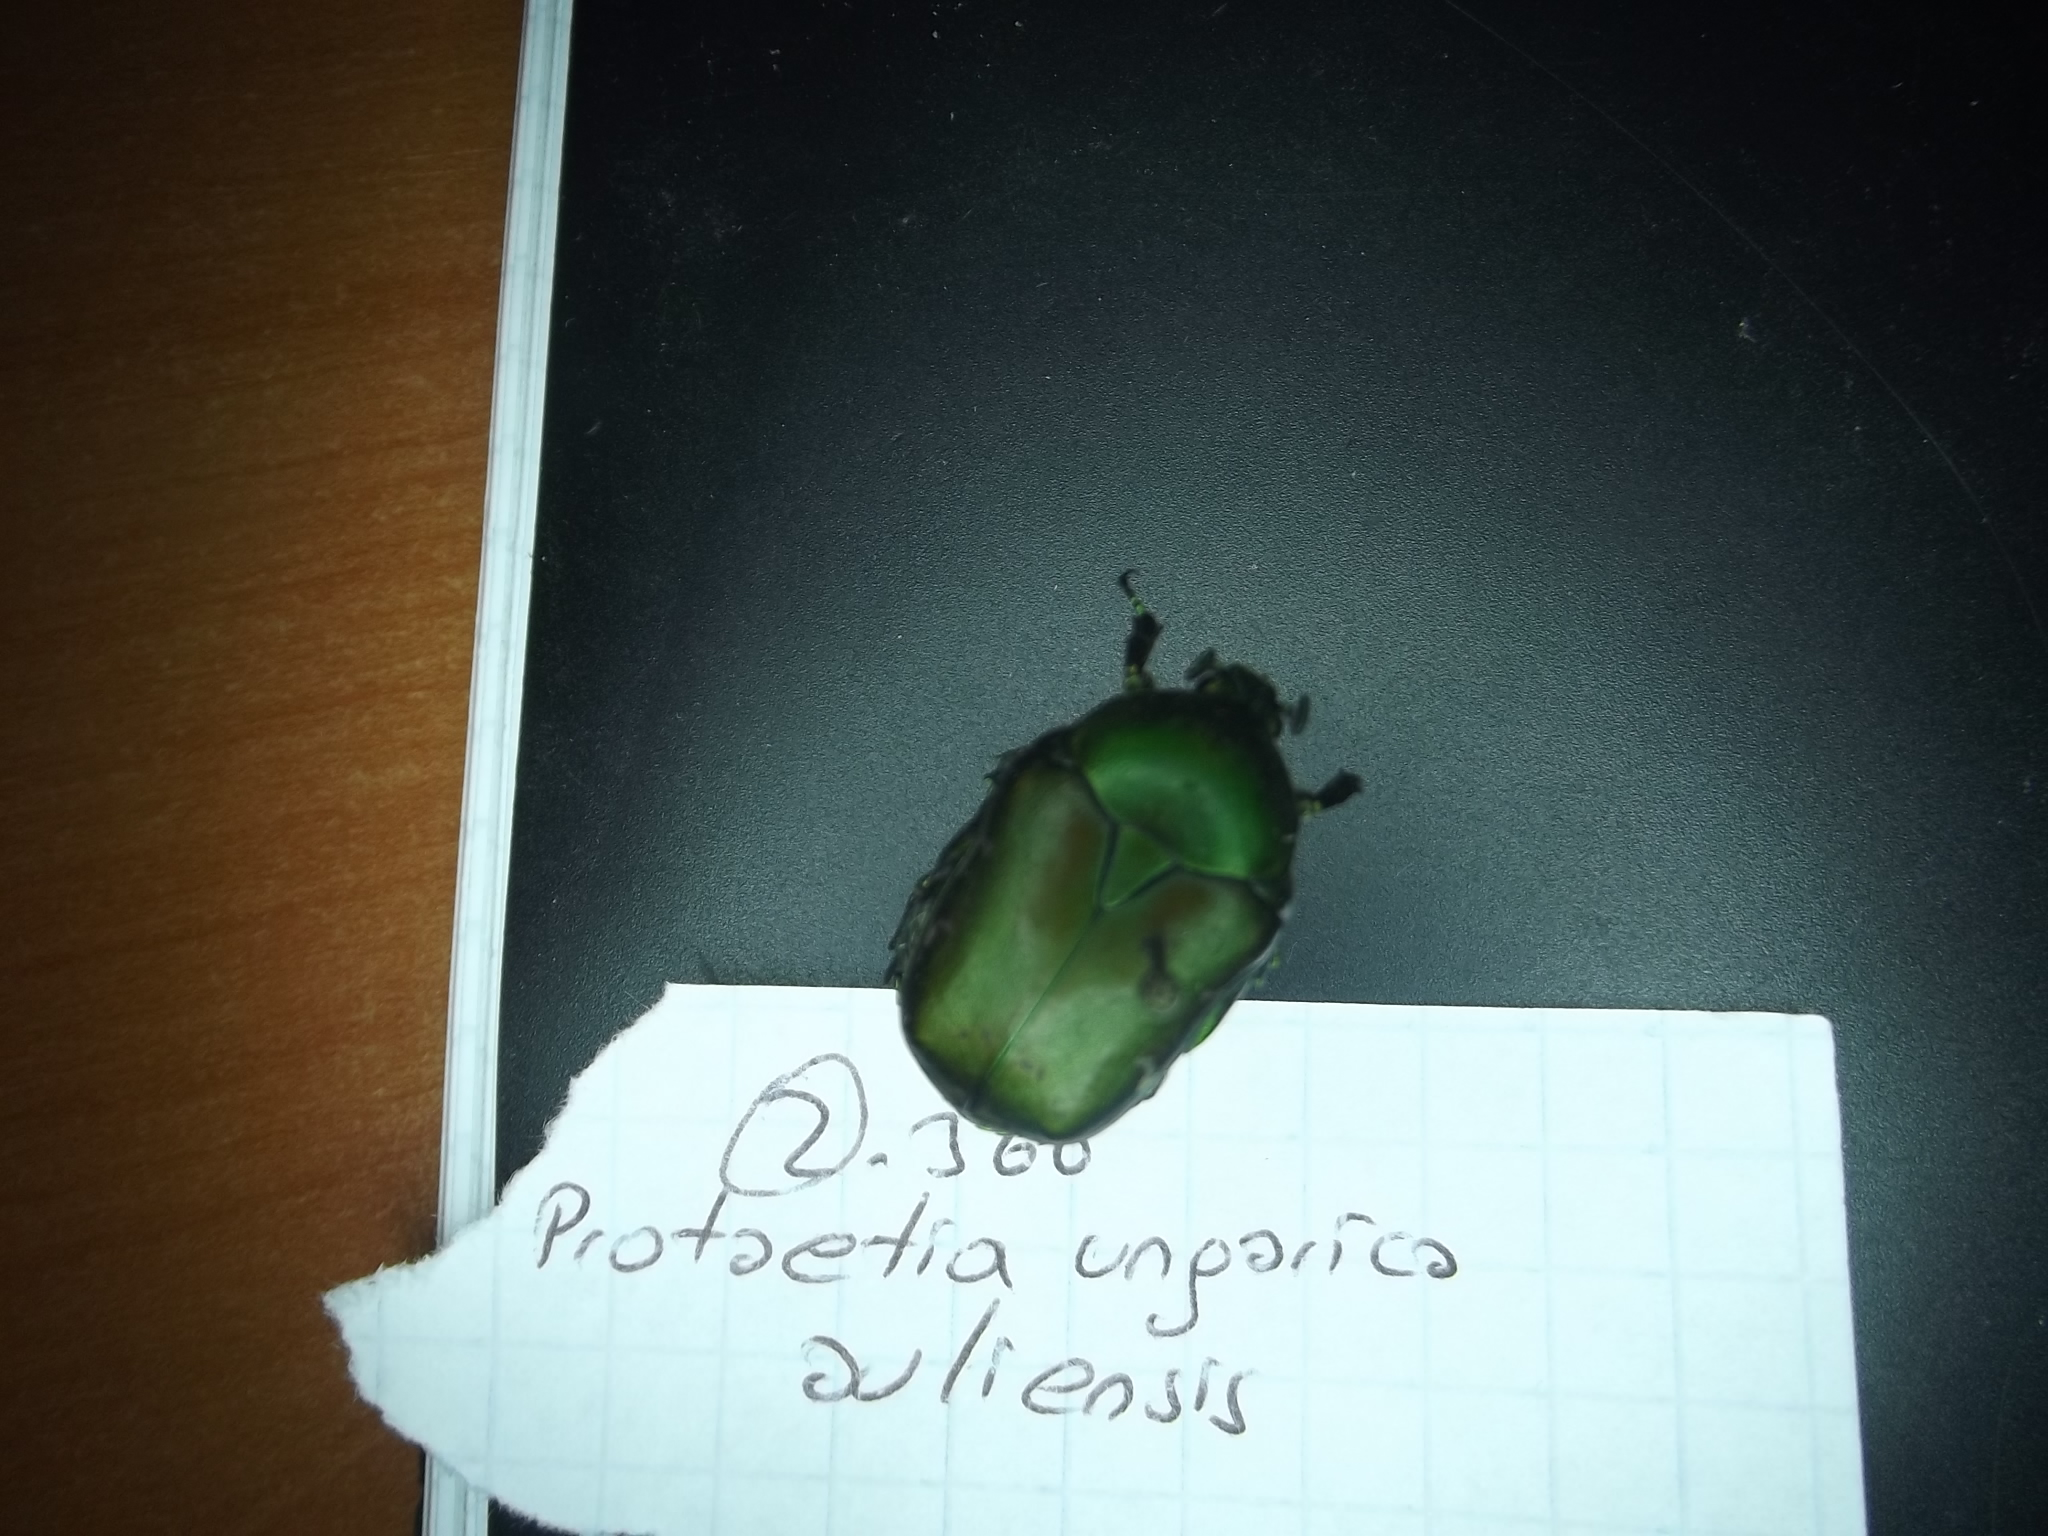Protaetia_ungarica: (885, 558, 1369, 1155)
